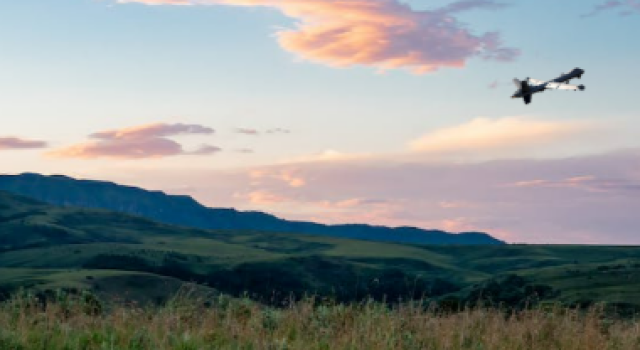military drone: (510, 67, 586, 104)
